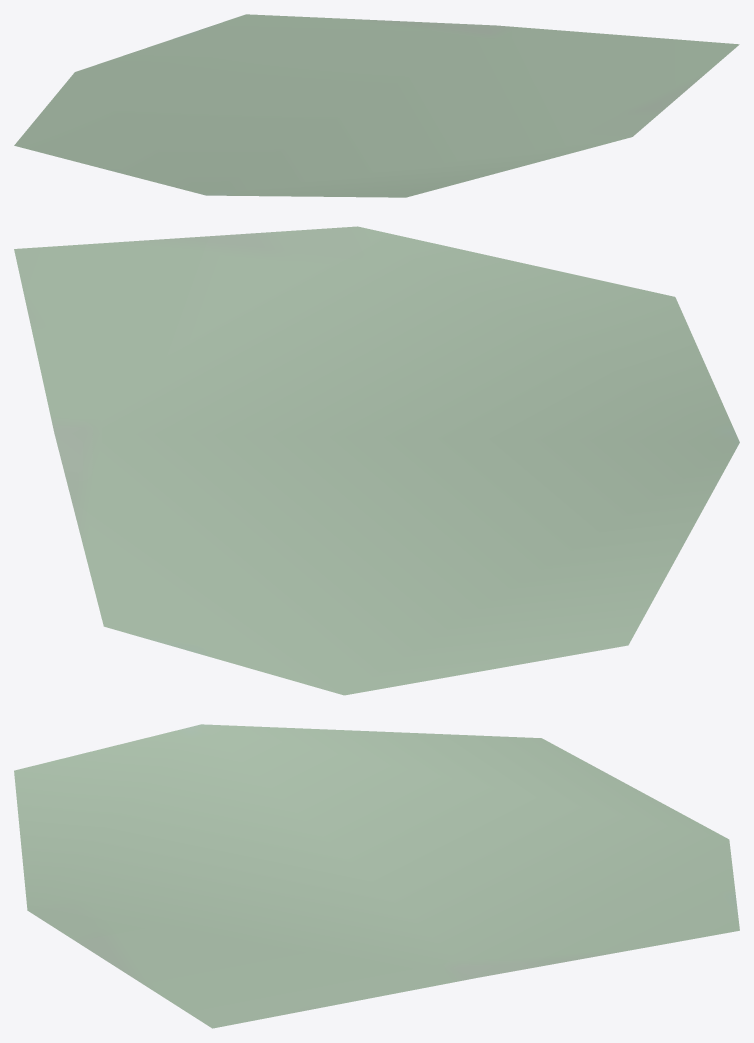
Rendered from TROLLHOLE02_HOLECAP78.fbx.
The picture shows the model from 3 angles, top to bottom: view 1: azimuth 30°, elevation 25°; view 2: azimuth 150°, elevation 25°; view 3: azimuth 270°, elevation 25°; orthographic projection. The views are drawn at different scales.
Parts seen in each view (by area): view 1: TROLLHOLE02_HOLECAP78; view 2: TROLLHOLE02_HOLECAP78; view 3: TROLLHOLE02_HOLECAP78.
Part boxes in pixels (bbox=[...]): TROLLHOLE02_HOLECAP78: bbox=[14, 14, 739, 197]; TROLLHOLE02_HOLECAP78: bbox=[14, 226, 739, 695]; TROLLHOLE02_HOLECAP78: bbox=[14, 724, 739, 1028].
Bounding box in the file's own units: 20891 × 2564 × 17926.
1 material, 1 textured.
